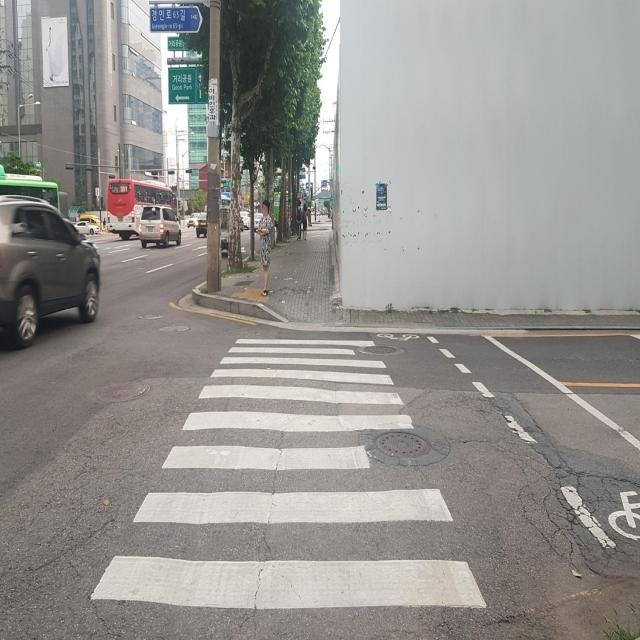횡단보도: (88, 332, 490, 615)
